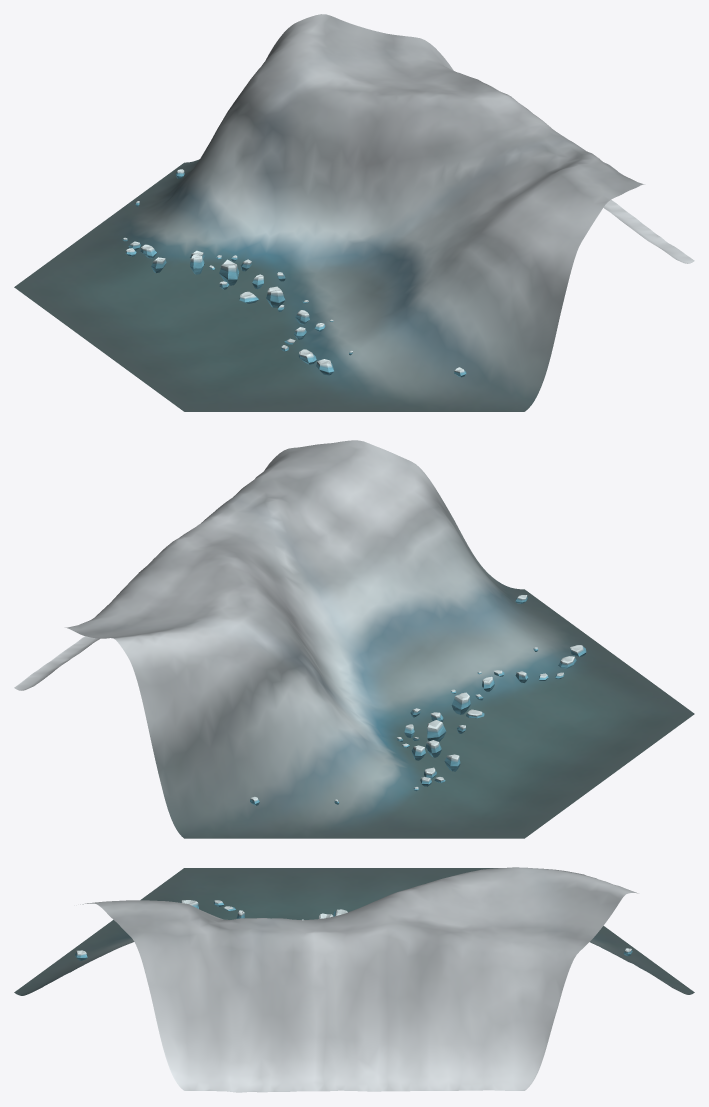
File: costa_+01_-09.glb
The picture shows the model from 3 angles, top to bottom: view 1: azimuth 30°, elevation 25°; view 2: azimuth 150°, elevation 25°; view 3: azimuth 270°, elevation 25°; orthographic projection.
Parts seen in each view (by area): view 1: terrain, Formações costeiras; view 2: terrain, Formações costeiras; view 3: terrain, Formações costeiras.
Boxes of the visible parts, x1,y1,x2,y2 form: terrain: [14, 14, 694, 411]; Formações costeiras: [122, 169, 466, 377]; terrain: [14, 440, 694, 838]; Formações costeiras: [250, 595, 586, 805]; terrain: [14, 867, 694, 1092]; Formações costeiras: [75, 900, 632, 960].
Bounding box in the file's own units: 4330 × 1254 × 5000.
1 material, 1 textured.
